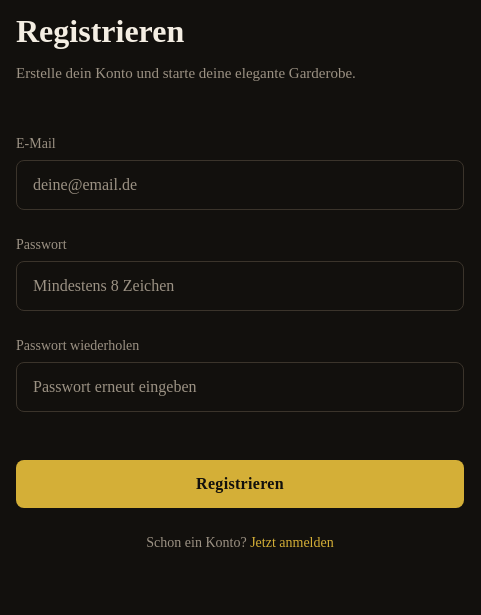
Scenario: Register › validiert Passwortlänge und -übereinstimmung
This screenshot has width=481, height=615.
Type "neu@example.de" into the field labelled "E-Mail".
click(240, 185); type("neu@example.de")  # box [16,160,464,210]
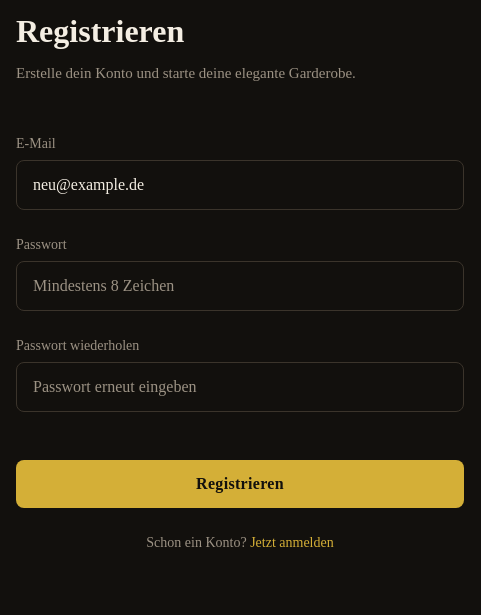
Type "kurz" into the password field labelled "Passwort".
click(240, 286); type("kurz")  # box [16,261,464,311]
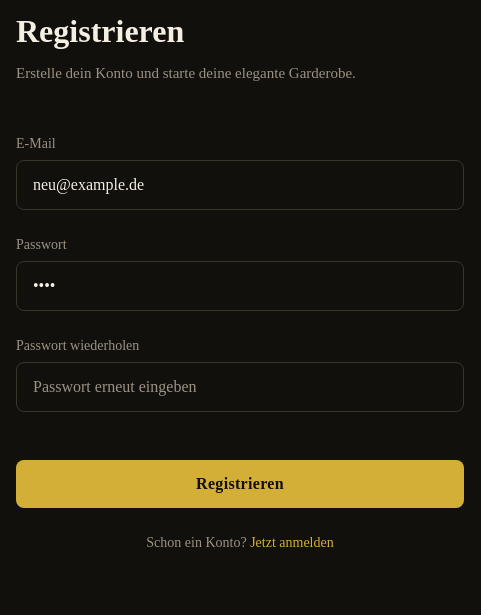
Type "anders" into the password field labelled "Passwort wiederholen".
click(240, 387); type("anders")  # box [16,362,464,412]
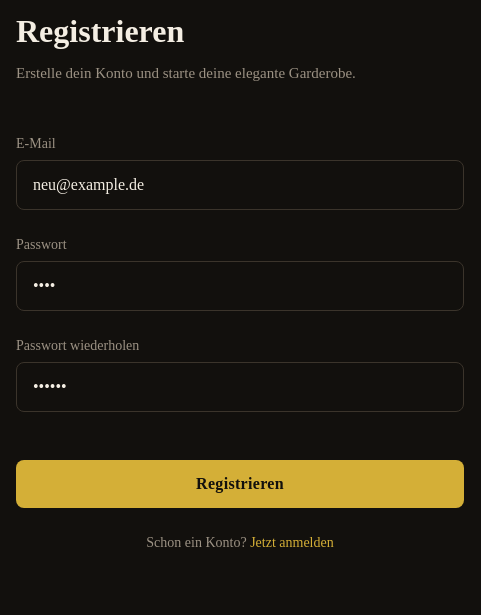
Submit the form from the button "Registrieren", box [16,460,464,508]
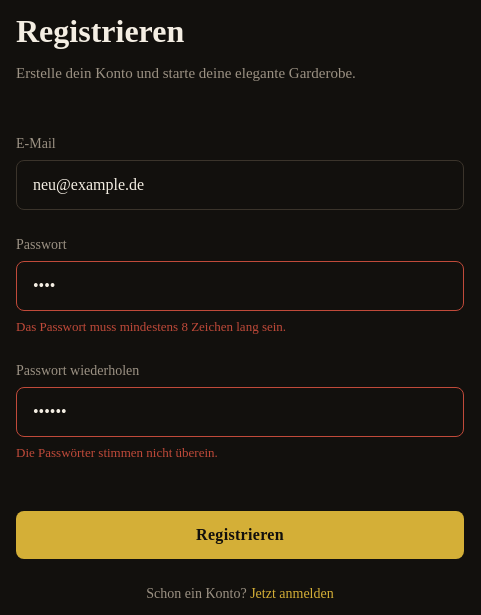
Expected: the text "Das Passwort muss mindestens 8 Zeichen lang sein." is shown, [16,319,286,334]
Expected: the text "Die Passwörter stimmen nicht überein." is shown, [16,445,218,460]
